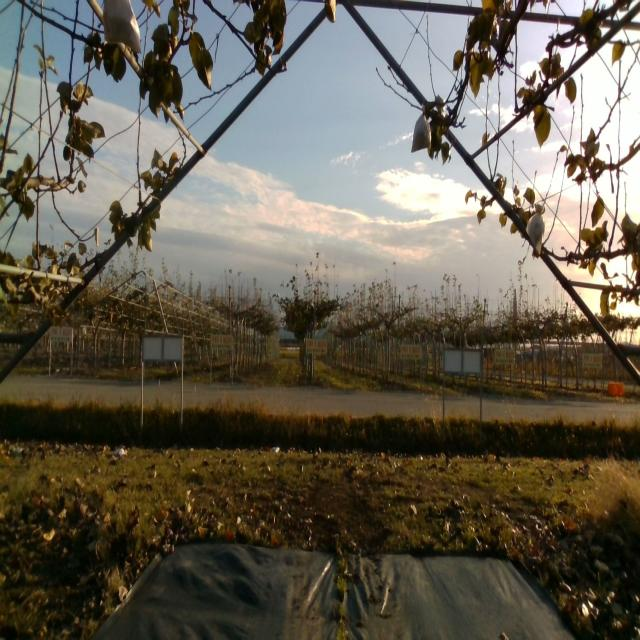pearbags: (102, 0, 144, 56), (410, 101, 432, 151), (524, 211, 548, 256)
